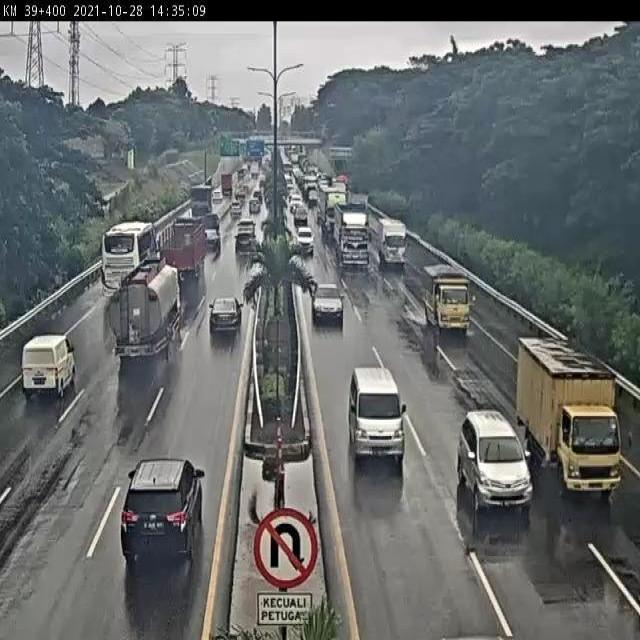big bus: (94, 210, 161, 298)
big truck: (96, 254, 193, 370), (153, 203, 216, 300), (324, 197, 377, 267)
car: (94, 443, 219, 593), (451, 402, 533, 522), (346, 358, 410, 466), (15, 317, 85, 415), (206, 290, 243, 354), (308, 279, 349, 333), (228, 232, 260, 267), (293, 220, 322, 256), (288, 201, 312, 235), (234, 215, 260, 244)
small truck: (515, 328, 617, 495), (419, 255, 477, 348), (377, 211, 412, 273)
